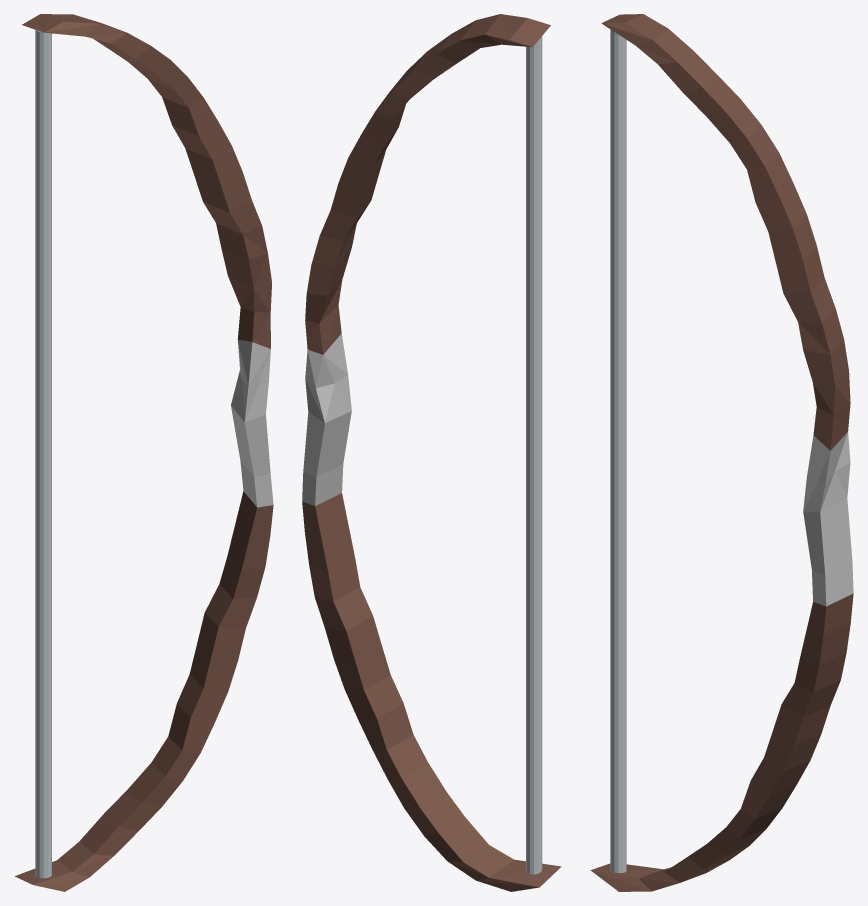
Rendered from Bow.obj.
3 renders of one model, left to right at view 1: azimuth 30°, elevation 25°; view 2: azimuth 150°, elevation 25°; view 3: azimuth 330°, elevation 25°, orthographic.
Bounding box in the file's own units: 0.3233 × 1.1 × 0.0739.
